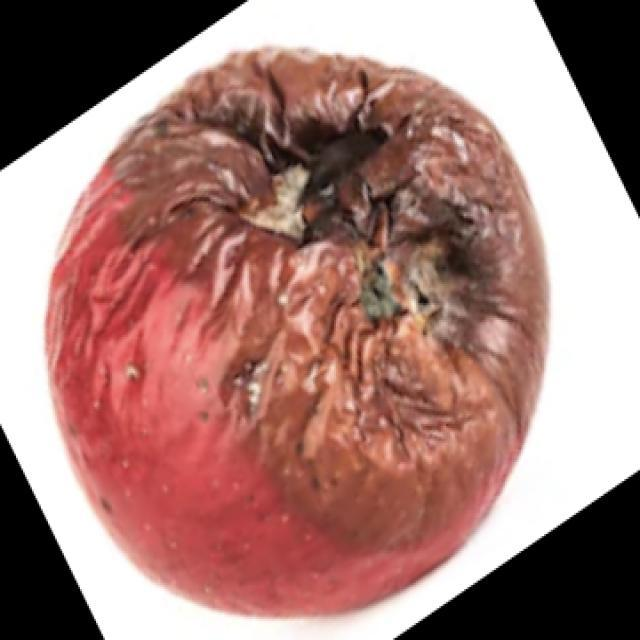Rotten: (40, 49, 542, 608)
